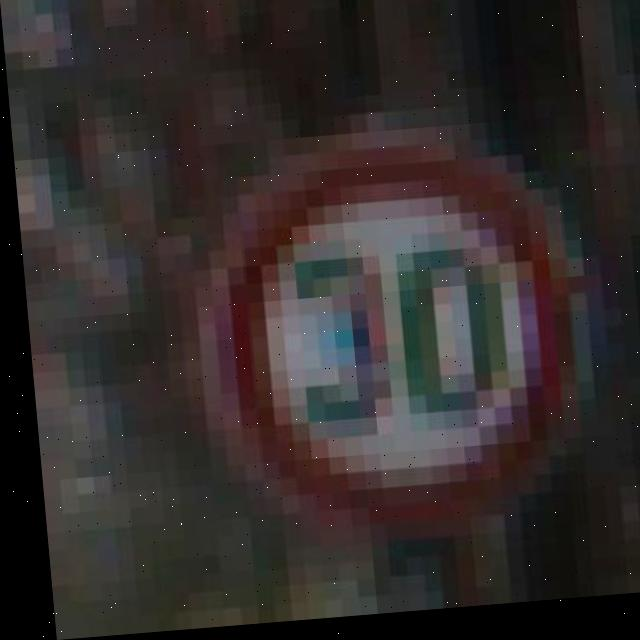Speed limit 30: (183, 121, 589, 541)
